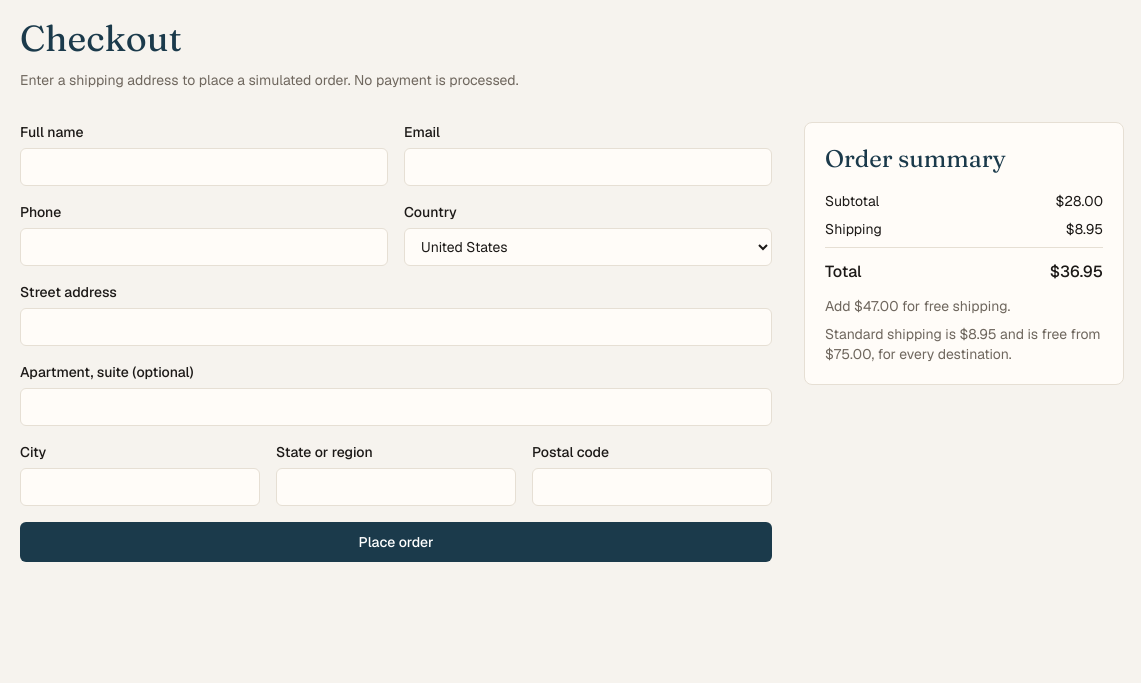
Scenario: CheckoutExperience › shows validation errors and does not confirm the order
This screenshot has width=1141, height=683.
Expected: the heading "Checkout" is shown, [20,16,182,60]
Click the button "Place order" at {"x": 396, "y": 542}, box [20,522,772,562]
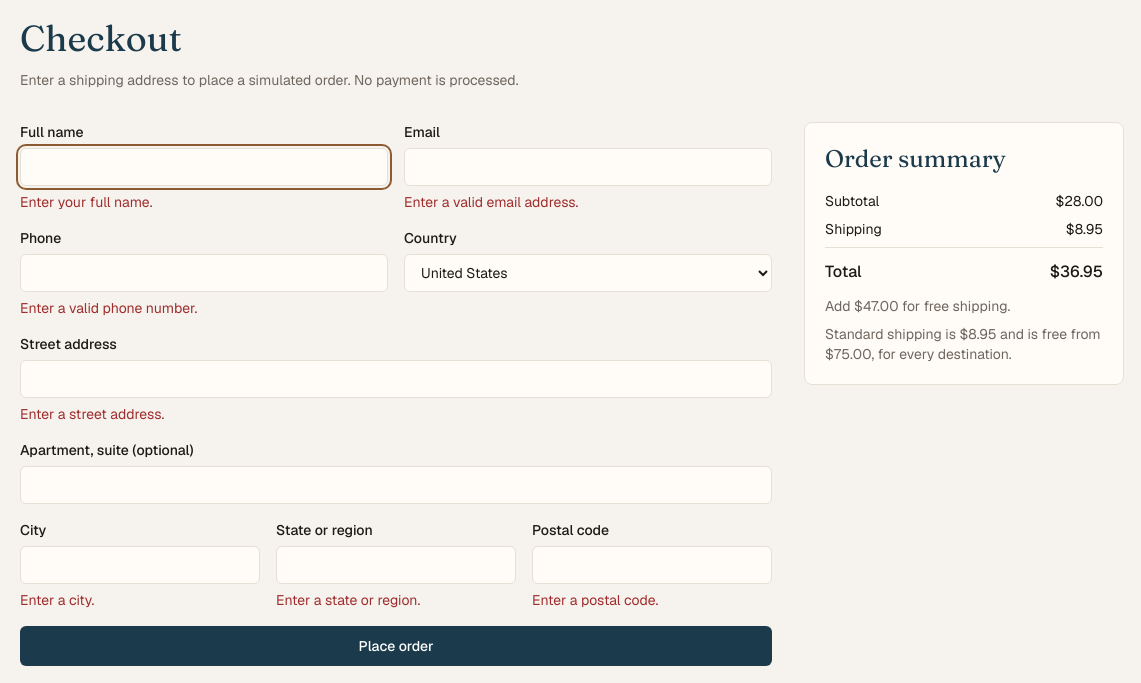
Expected: the text "Enter your full name." is shown, [20,193,152,211]
Expected: the text "Enter a valid email address." is shown, [404,193,578,211]
